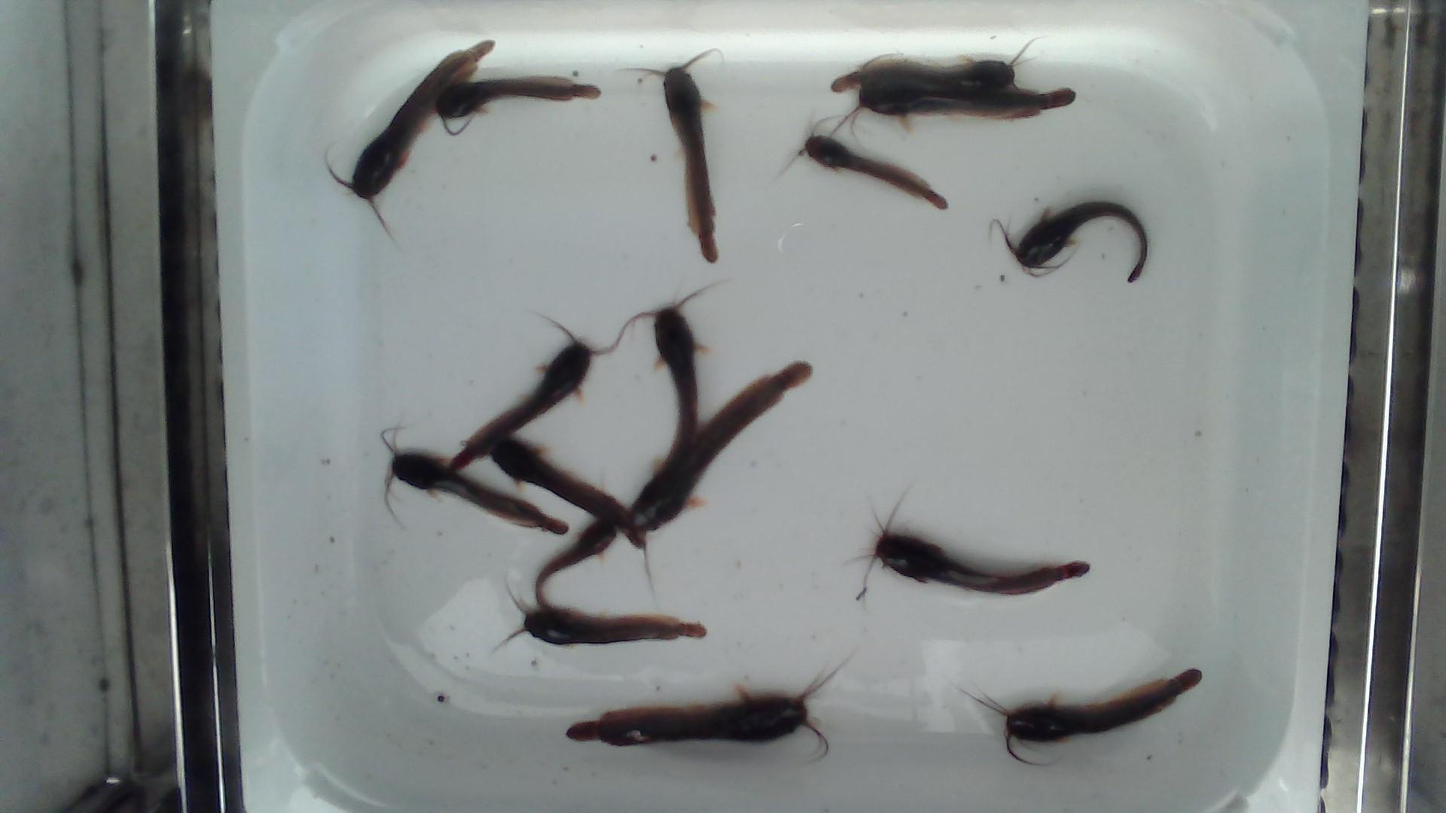lele: (326, 39, 496, 228), (631, 360, 814, 532), (450, 321, 624, 470), (857, 497, 1090, 598), (567, 674, 834, 756), (380, 429, 568, 534), (632, 48, 718, 261), (978, 668, 1201, 749), (490, 439, 648, 547), (836, 80, 1077, 130), (636, 292, 702, 473), (1002, 201, 1147, 282), (831, 37, 1035, 94), (802, 136, 947, 209), (436, 75, 603, 136), (502, 601, 705, 646), (533, 517, 617, 609)
